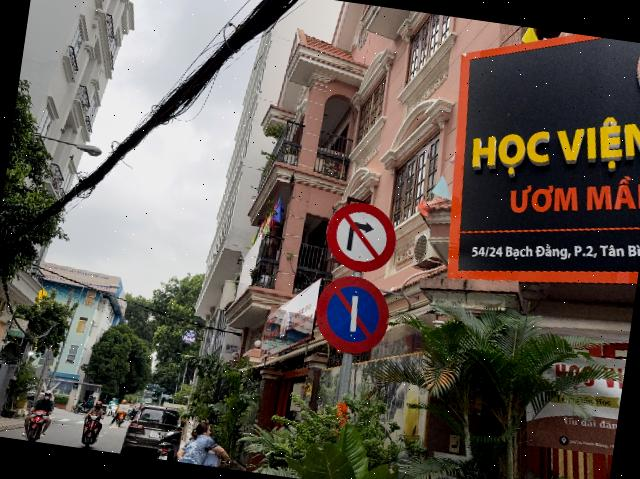cam-do-xe-ngay-le: (310, 271, 395, 359)
cam-re-phai: (322, 197, 402, 277)
